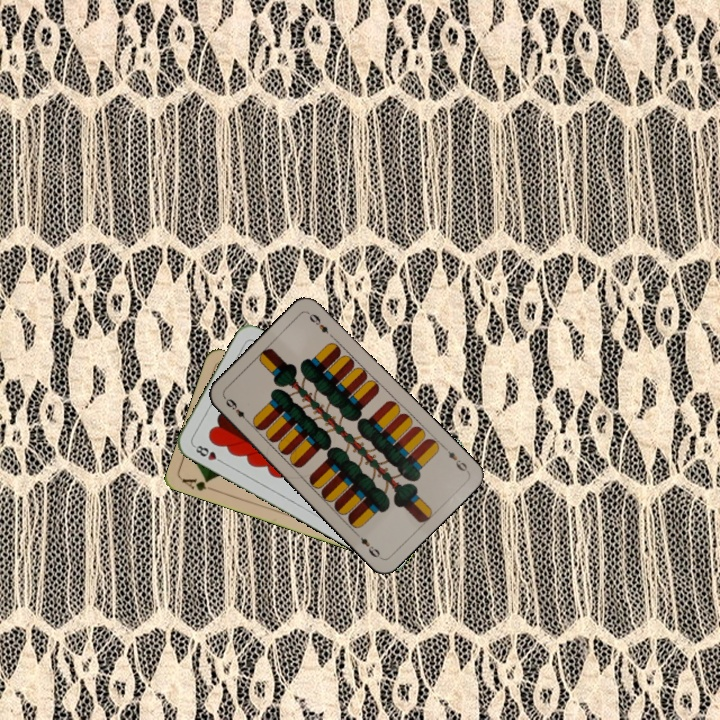E9: (439, 442, 471, 475), (220, 393, 252, 425)
GA: (179, 474, 219, 494)
H8: (190, 441, 227, 466)
